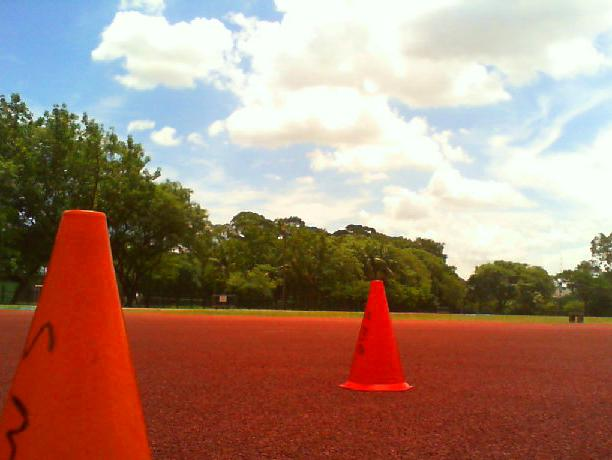0 cone: (0, 210, 156, 460), (338, 281, 412, 391)
